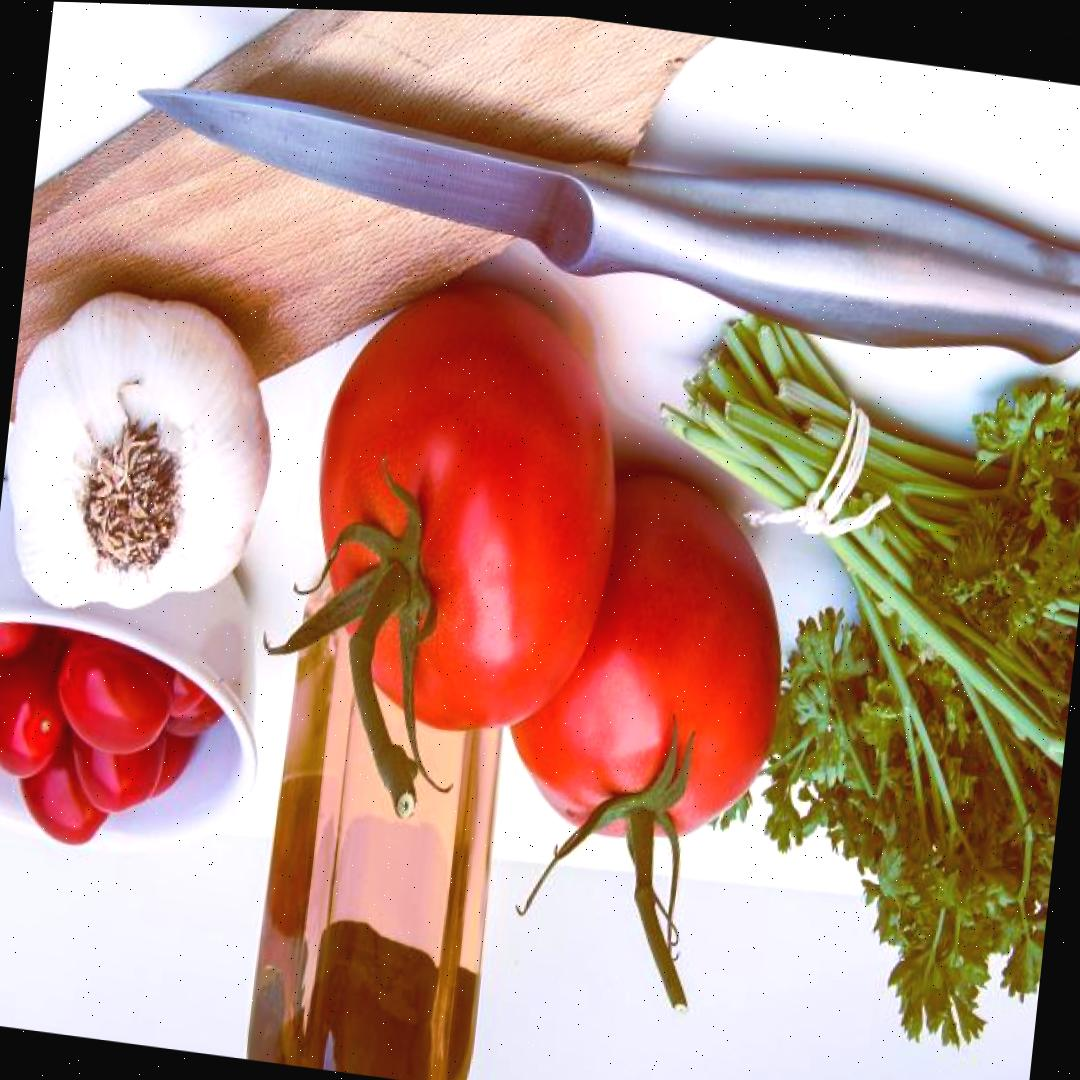matang: (294, 265, 640, 746), (492, 454, 800, 857), (52, 614, 182, 763), (0, 644, 74, 783)
